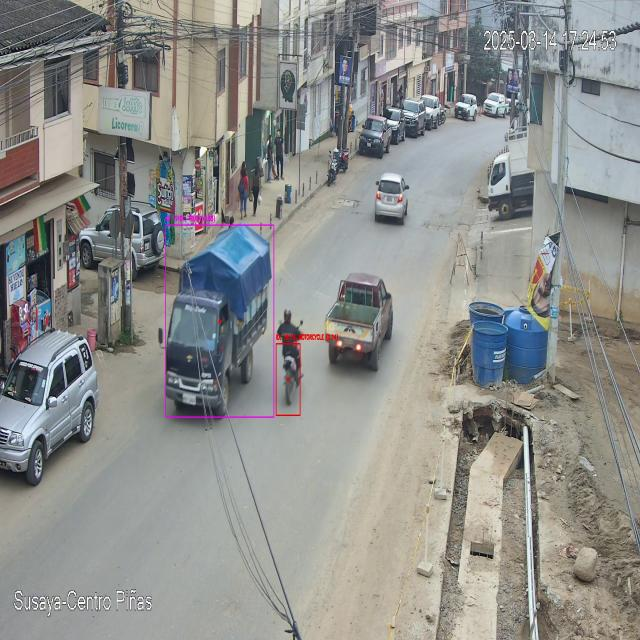CMT: (325, 273, 393, 367)
TRUCK: (168, 226, 272, 417)
